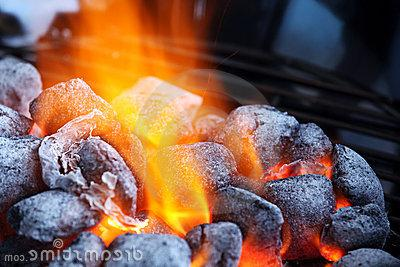fire: (58, 6, 340, 266)
